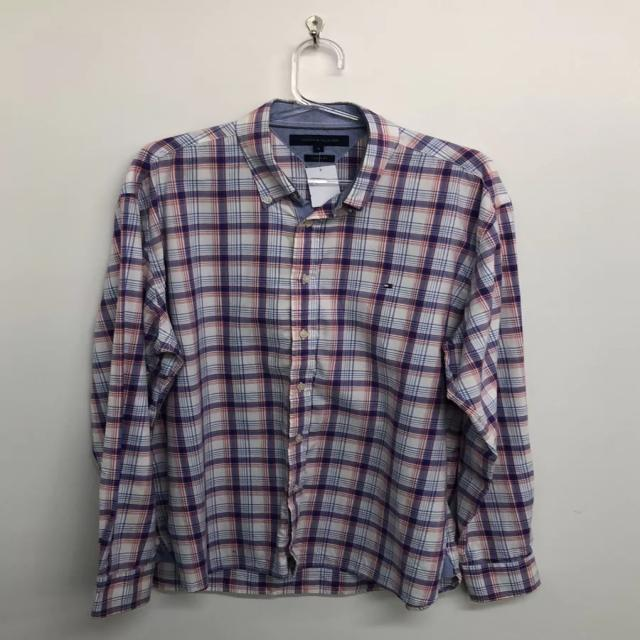long sleeve shirt: (84, 96, 545, 619)
